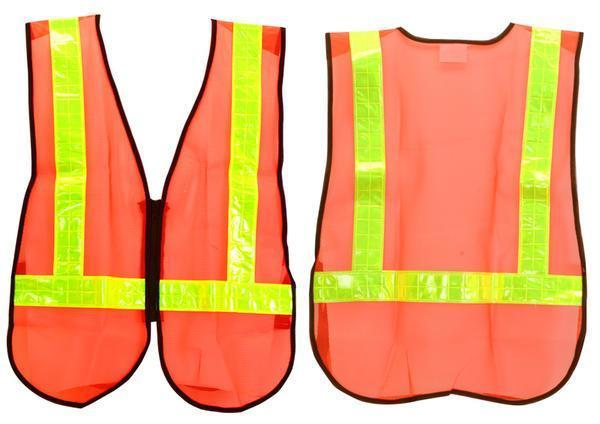vest: (6, 12, 299, 412), (307, 25, 589, 407)
